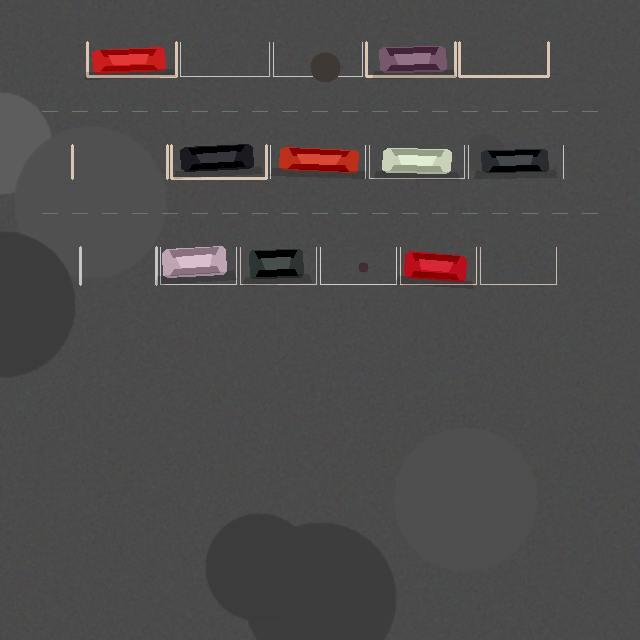space-empty: (72, 145, 167, 178), (180, 42, 269, 76), (273, 42, 362, 76), (459, 42, 548, 76), (80, 247, 156, 284), (320, 247, 396, 284), (480, 247, 556, 284)
space-occupied: (171, 145, 266, 178), (270, 145, 365, 178), (369, 145, 464, 178), (468, 145, 563, 178), (87, 42, 176, 76), (366, 42, 455, 76), (160, 247, 236, 284), (240, 247, 316, 284), (400, 247, 476, 284)
